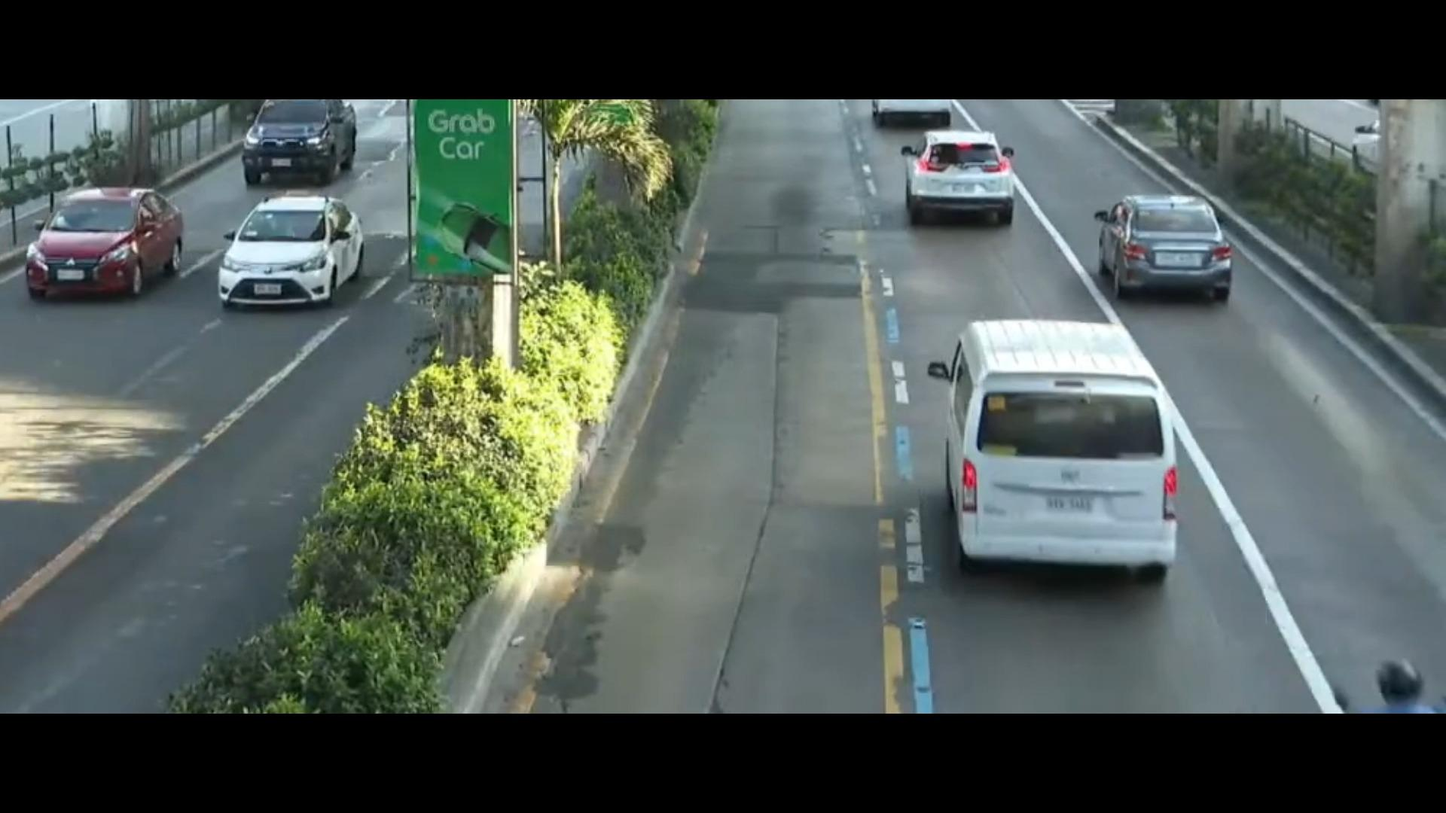SUV: (230, 98, 352, 198)
Sedan: (13, 164, 201, 328), (1076, 169, 1261, 310), (208, 194, 357, 318), (889, 117, 1033, 236)
Van: (899, 289, 1210, 621)
